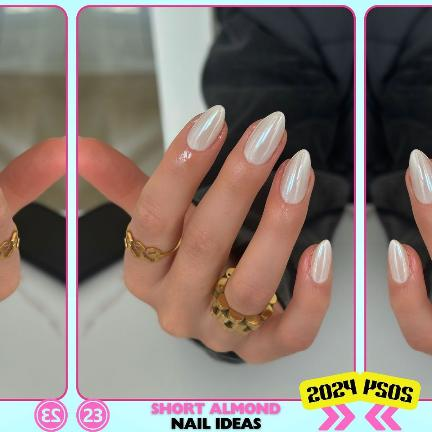Nail: (244, 111, 285, 165), (186, 105, 225, 152), (280, 149, 311, 204), (409, 149, 432, 204), (310, 239, 332, 284), (388, 239, 410, 284)
